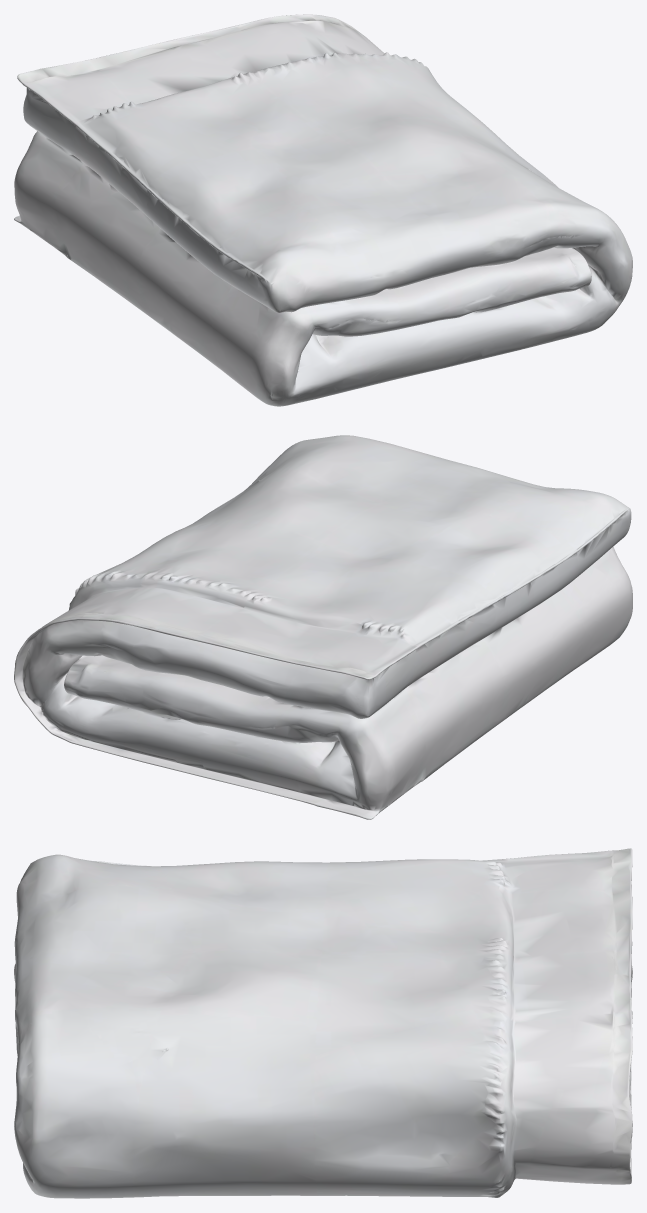
3 views of the same model, one above another, from view 1: azimuth 30°, elevation 25°; view 2: azimuth 150°, elevation 25°; view 3: azimuth 270°, elevation 25° (orthographic). The views are drawn at different scales.
Parts seen in each view (by area): view 1: tripo_node_6c9a8c69-e7af-4e1a-a655-2f54aab28000; view 2: tripo_node_6c9a8c69-e7af-4e1a-a655-2f54aab28000; view 3: tripo_node_6c9a8c69-e7af-4e1a-a655-2f54aab28000.
Boxes of the visible parts, x1=… form: tripo_node_6c9a8c69-e7af-4e1a-a655-2f54aab28000: x1=14, y1=14, x2=632, y2=406; tripo_node_6c9a8c69-e7af-4e1a-a655-2f54aab28000: x1=14, y1=435, x2=632, y2=819; tripo_node_6c9a8c69-e7af-4e1a-a655-2f54aab28000: x1=14, y1=848, x2=632, y2=1198.
Bounding box in the file's own units: 0.8045 × 0.3136 × 0.9999.
1 material, 1 textured.
